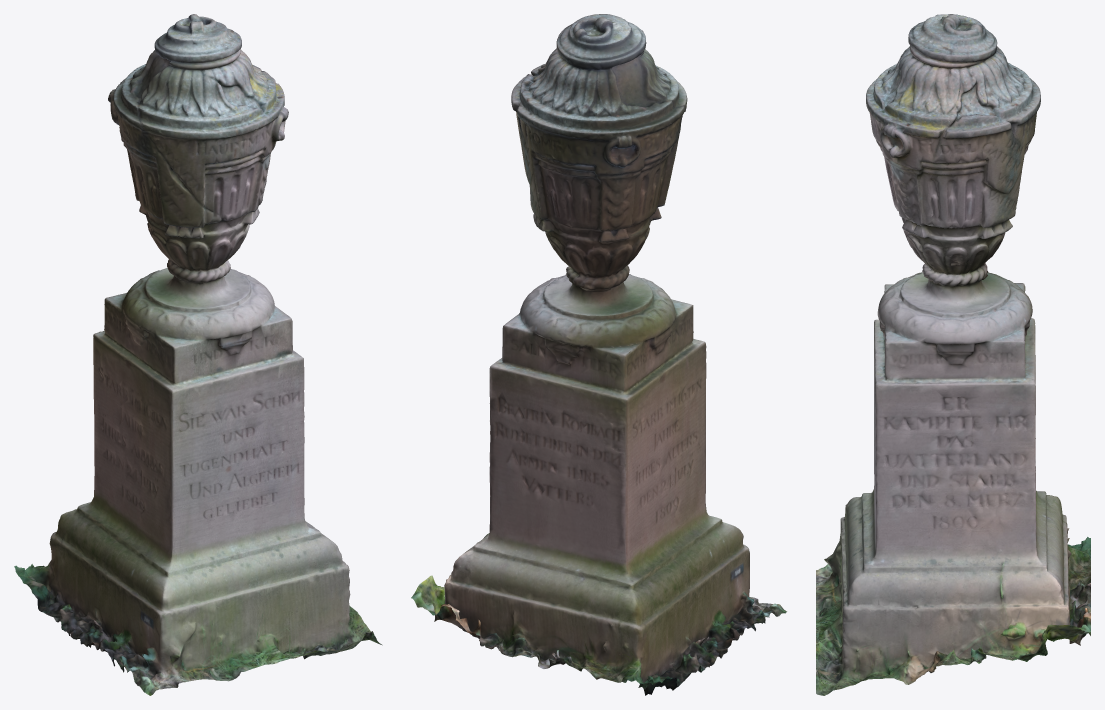
Rendered from gravetomb-cup.fbx.
3 renders of one model, left to right at view 1: azimuth 30°, elevation 25°; view 2: azimuth 150°, elevation 25°; view 3: azimuth 270°, elevation 25°, orthographic. The views are drawn at different scales.
Visible parts, largest first — view 1: Mesh_0_Part_LOD0; view 2: Mesh_0_Part_LOD0; view 3: Mesh_0_Part_LOD0.
Boxes of the visible parts, <box> form: Mesh_0_Part_LOD0: <box>14,14,382,695</box>; Mesh_0_Part_LOD0: <box>411,14,786,695</box>; Mesh_0_Part_LOD0: <box>816,14,1090,695</box>.
Size of what is drawn, in the model's own units: 58.89 by 146 by 58.21.
